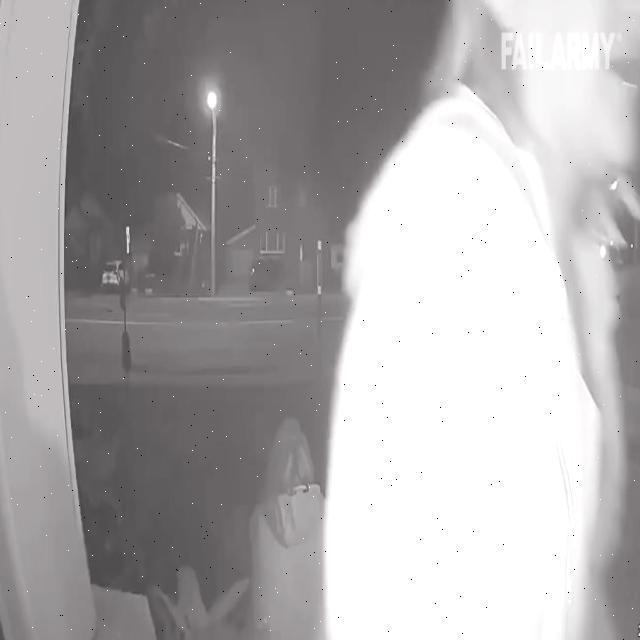person: (325, 3, 640, 640), (251, 420, 327, 640)
